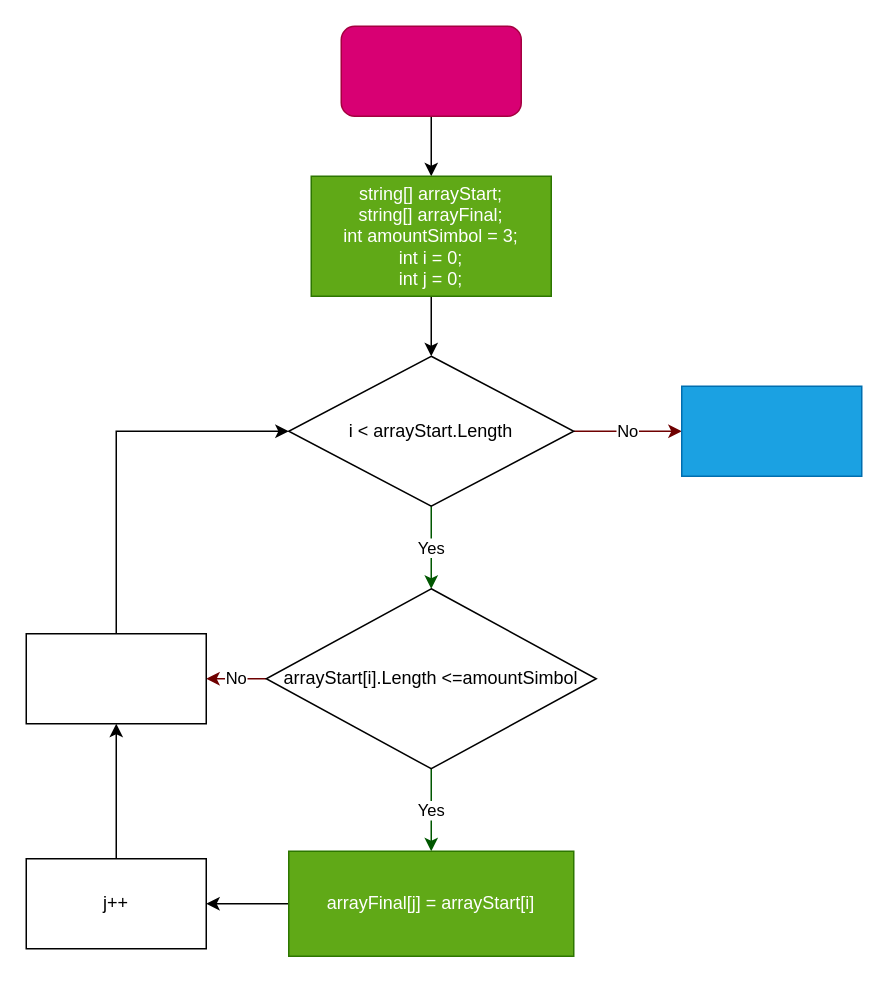
Image size: 888x983. Some labels were removed from this diagram. The centre of each missing label's shape, as x and y in pixels:
"i++" belongs at (x=115, y=678).
"Print (arrayFinal)" belongs at (x=771, y=430).
"Start" belongs at (x=430, y=70).
